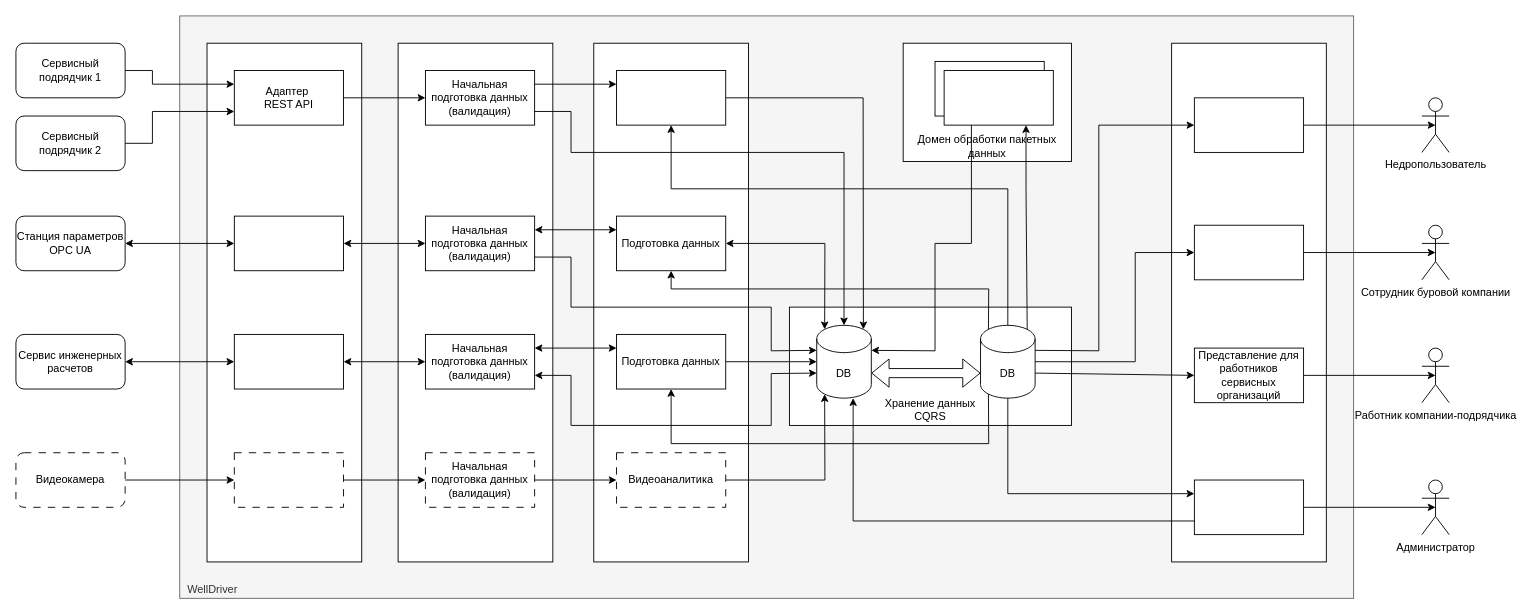
Some shapes in this 1532 by 614 pixel diagram are drawn without their labels. The shapes that lost their labels are listed below. From the top down, each one's box as (x1, y1, x2, y2) in pixels, then its label:
(616, 70, 726, 125): Подготовка и анализ данных
(943, 70, 1053, 125): Подготовка отчетов
(1193, 97, 1304, 152): Представление для недропользователя
(233, 215, 344, 271): Адаптер OPCUA
(1193, 224, 1304, 280): Представление для сотрудников буровой компании
(206, 42, 362, 562): Домен примников данных
(397, 42, 553, 562): Домен валидаторов
(593, 42, 748, 562): Домен предварительной подготовки данных и расчетов
(1171, 42, 1326, 562): Домен представления данных
(233, 334, 344, 389): Адаптер GraphQL
(233, 452, 344, 507): Адаптер Video
(1193, 479, 1304, 535): Администратор системы
